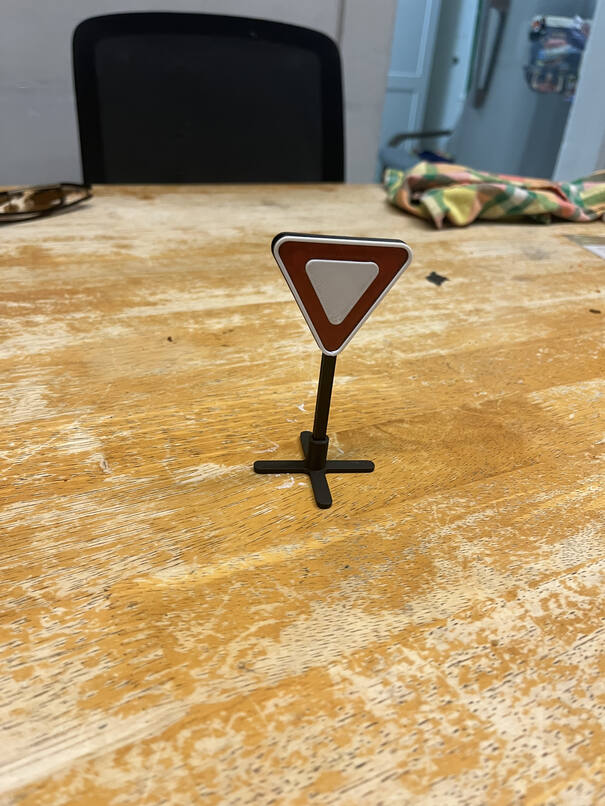sign_yield: (264, 234, 417, 354)
